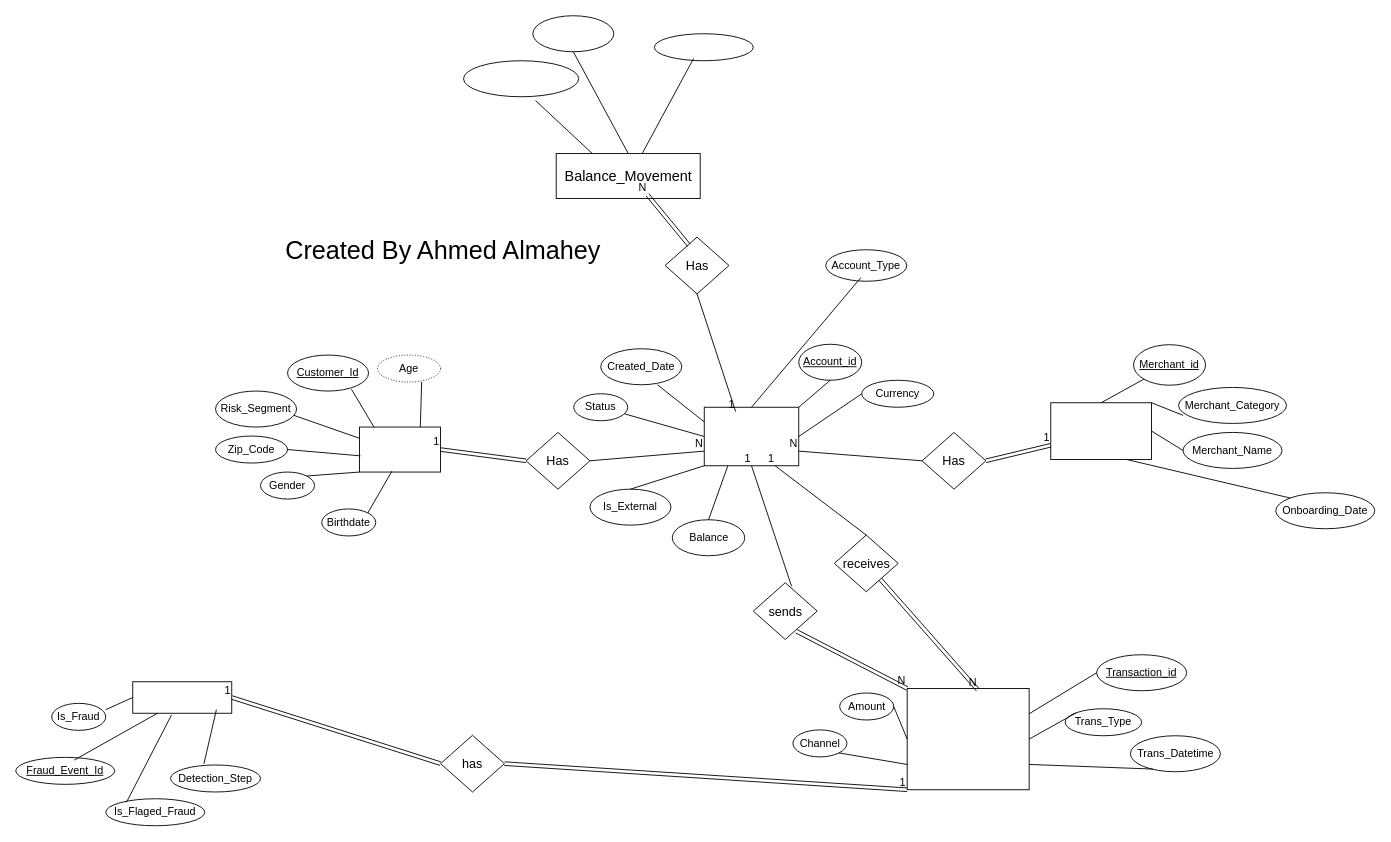
Image size: 1391x842. Some labels were removed from this diagram. The centre of each missing label's shape, as x and y in pixels:
Account: pixel 751 436
Balance_After: pixel 521 78
Balance_Before: pixel 703 47
Customer: pixel 400 449
Fraud_Event: pixel 182 697
Merchant: pixel 1101 430
Movement_id: pixel 573 33
Transaction: pixel 967 739
